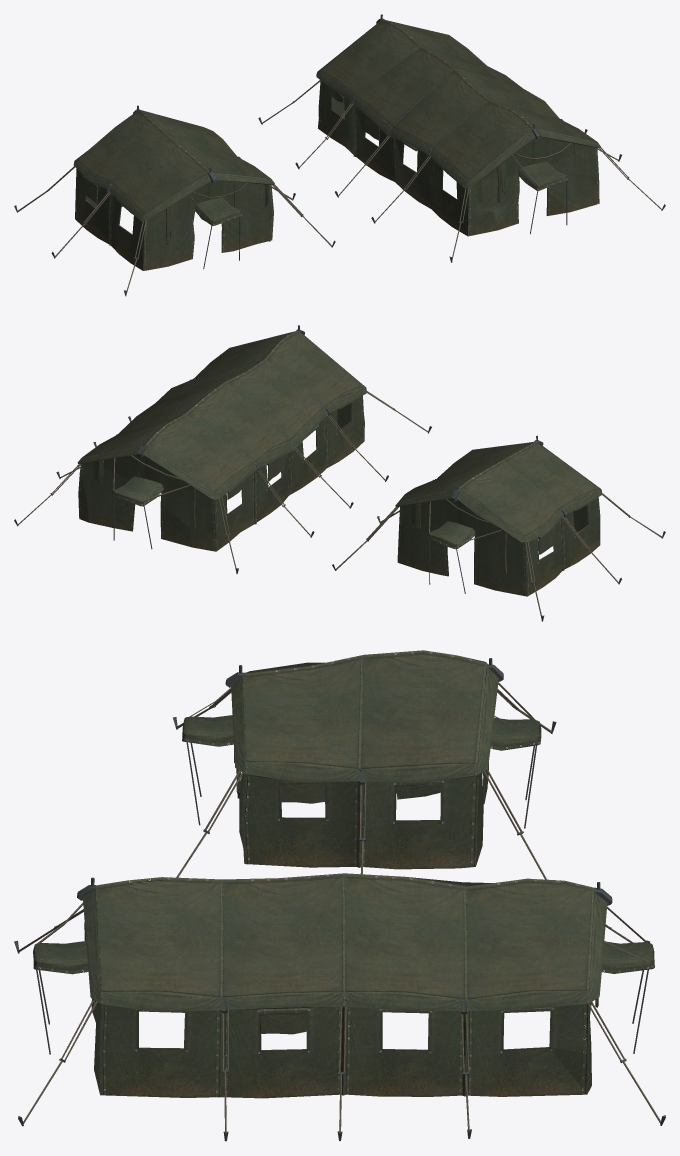
The model's file is tent2.FBX.
3 renders of one model, top to bottom at view 1: azimuth 30°, elevation 25°; view 2: azimuth 150°, elevation 25°; view 3: azimuth 270°, elevation 25°, orthographic. The views are drawn at different scales.
Visible parts, largest first — view 1: Tent_Big, Tent_Small; view 2: Tent_Big, Tent_Small; view 3: Tent_Big, Tent_Small.
Part boxes in pixels (<box>): Tent_Big: <box>258,14,665,262</box>; Tent_Small: <box>14,105,335,296</box>; Tent_Big: <box>14,325,431,573</box>; Tent_Small: <box>332,436,665,621</box>; Tent_Big: <box>14,873,665,1141</box>; Tent_Small: <box>173,650,556,879</box>.
Size of the model in its own units: 1334 by 240 by 859.
